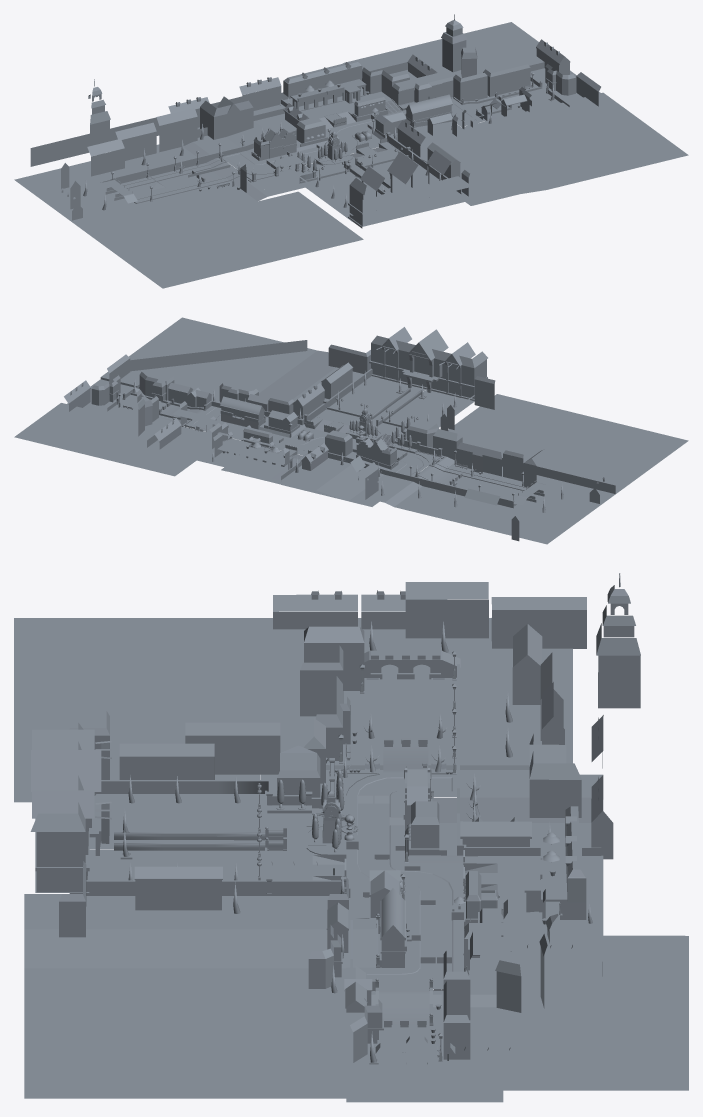
The model's file is gltf__Models__map__Village__cityHall__cityHall_mergedScene_oneMesh.glb.
3 renders of one model, top to bottom at view 1: azimuth 30°, elevation 25°; view 2: azimuth 150°, elevation 25°; view 3: azimuth 270°, elevation 25°, orthographic. The views are drawn at different scales.
Parts seen in each view (by area): view 1: cityHall_mergedScene_oneMesh; view 2: cityHall_mergedScene_oneMesh; view 3: cityHall_mergedScene_oneMesh.
Part boxes in pixels (box(x1,y1,x2,y2)): cityHall_mergedScene_oneMesh: box(14, 14, 688, 288); cityHall_mergedScene_oneMesh: box(14, 317, 688, 544); cityHall_mergedScene_oneMesh: box(14, 573, 688, 1102).
Bounding box in the file's own units: 196 × 26.37 × 116.
8 materials, 8 textured.
